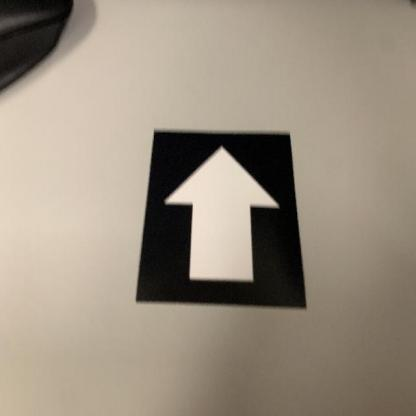up: (133, 125, 308, 313)
